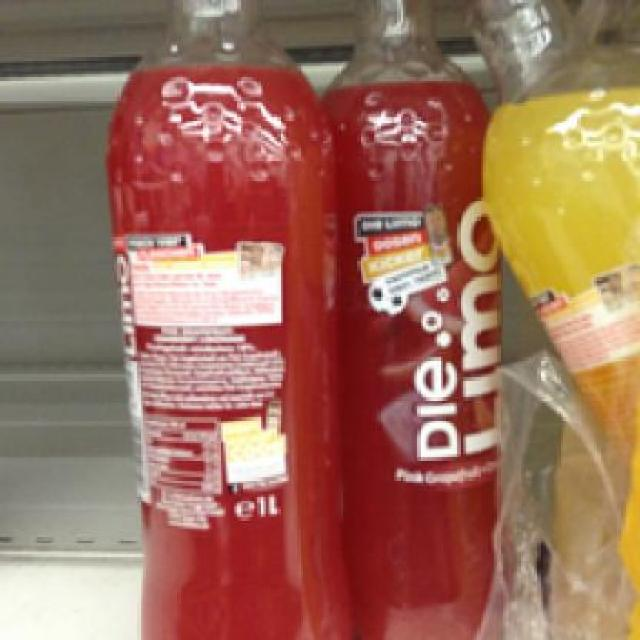Soda: (97, 0, 343, 635), (310, 0, 503, 635), (472, 0, 638, 540)
